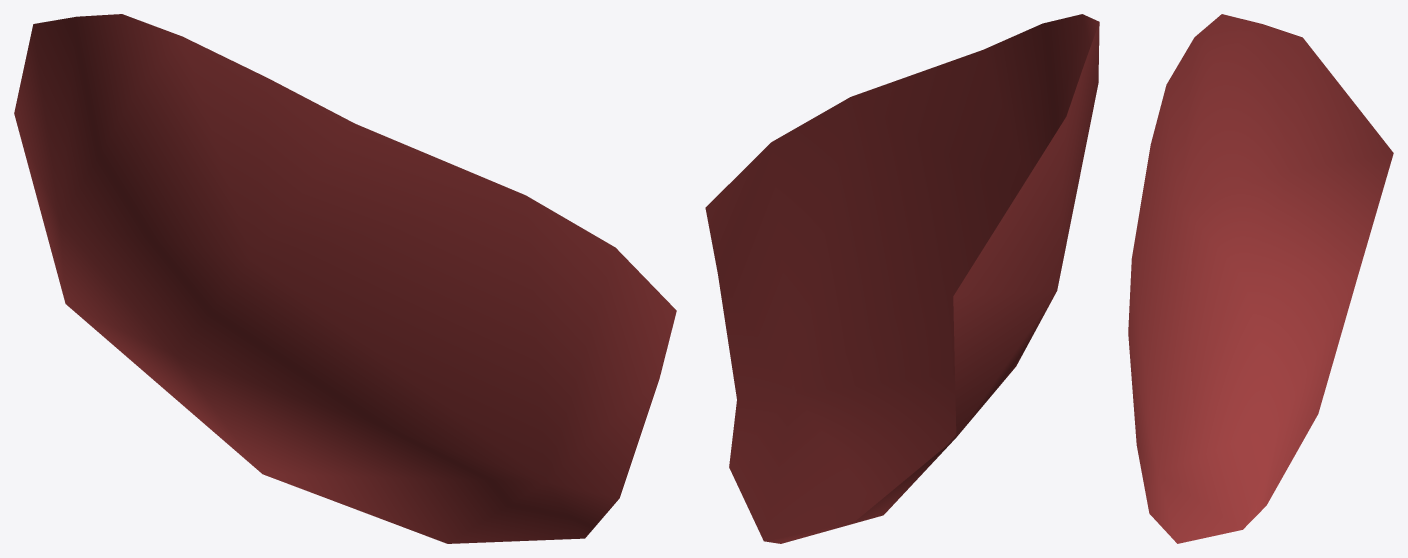
File: scalenus-medius-muscle-e1l.glb
3 renders of one model, left to right at view 1: azimuth 30°, elevation 25°; view 2: azimuth 150°, elevation 25°; view 3: azimuth 270°, elevation 25°, orthographic. The views are drawn at different scales.
Visible parts, largest first — view 1: Scalenus medius muscle.e1l; view 2: Scalenus medius muscle.e1l; view 3: Scalenus medius muscle.e1l.
Boxes of the visible parts, x1,y1,x2,y2 form: Scalenus medius muscle.e1l: (14,14,676,543); Scalenus medius muscle.e1l: (705,14,1099,543); Scalenus medius muscle.e1l: (1128,14,1393,543).
Bounding box in the file's own units: 0.00448 × 0.0052 × 0.00307.
